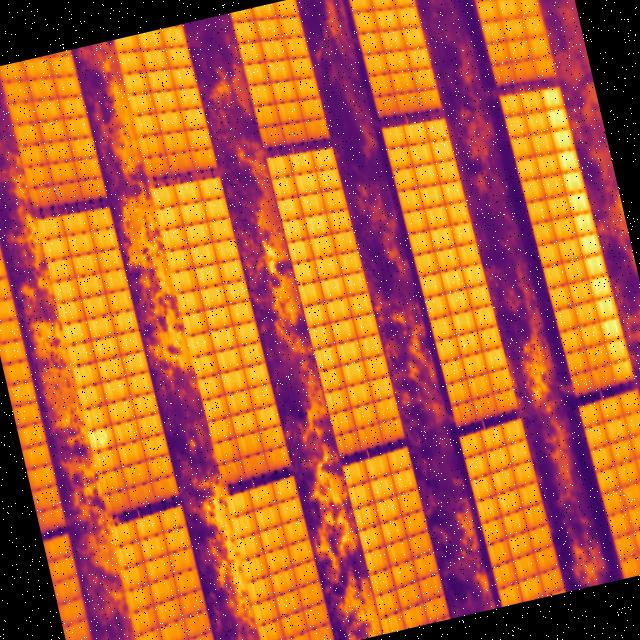Hotspot: (82, 419, 115, 454), (560, 167, 588, 196), (592, 292, 618, 322), (550, 125, 576, 154), (556, 145, 582, 174), (540, 82, 565, 110), (566, 188, 591, 216), (544, 106, 570, 130), (588, 272, 612, 298), (572, 208, 594, 234), (578, 231, 601, 255), (583, 253, 605, 278), (599, 314, 621, 338)
